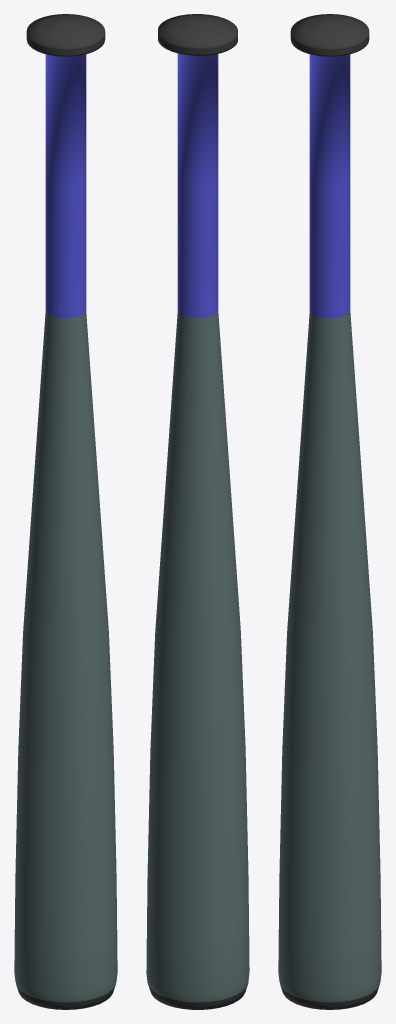
Rendered from Bat evidence.fbx.
3 views of the same model, side by side, from view 1: azimuth 90°, elevation 25°; view 2: azimuth 150°, elevation 25°; view 3: azimuth 270°, elevation 25° (orthographic).
Visible parts, largest first — view 1: Sphere.001; view 2: Sphere.001; view 3: Sphere.001.
Part boxes in pixels (x1=…): Sphere.001: x1=14, y1=14, x2=117, y2=1009; Sphere.001: x1=146, y1=14, x2=249, y2=1009; Sphere.001: x1=278, y1=14, x2=381, y2=1009.
Bounding box in the file's own units: 167 × 1735 × 167.
